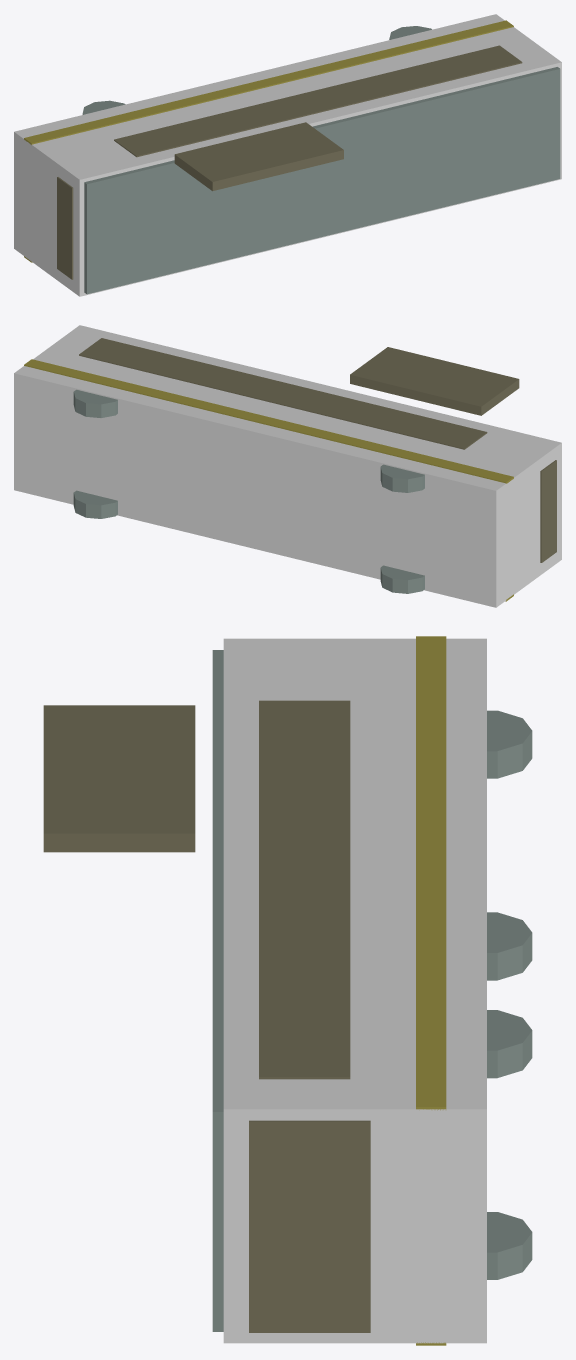
The model's file is SM_AutobusCruzado_v2_Volcado_LOD0.fbx.
3 renders of one model, top to bottom at view 1: azimuth 30°, elevation 25°; view 2: azimuth 150°, elevation 25°; view 3: azimuth 270°, elevation 25°, orthographic. The views are drawn at different scales.
Visible parts, largest first — view 1: SM_aqui_paso_algo_v17_LOD0; view 2: SM_aqui_paso_algo_v17_LOD0; view 3: SM_aqui_paso_algo_v17_LOD0.
Part boxes in pixels (bbox=[...]): SM_aqui_paso_algo_v17_LOD0: bbox=[14, 14, 561, 296]; SM_aqui_paso_algo_v17_LOD0: bbox=[14, 325, 561, 607]; SM_aqui_paso_algo_v17_LOD0: bbox=[43, 636, 532, 1345].
Bounding box in the file's own units: 11.06 × 2.78 × 4.83.
